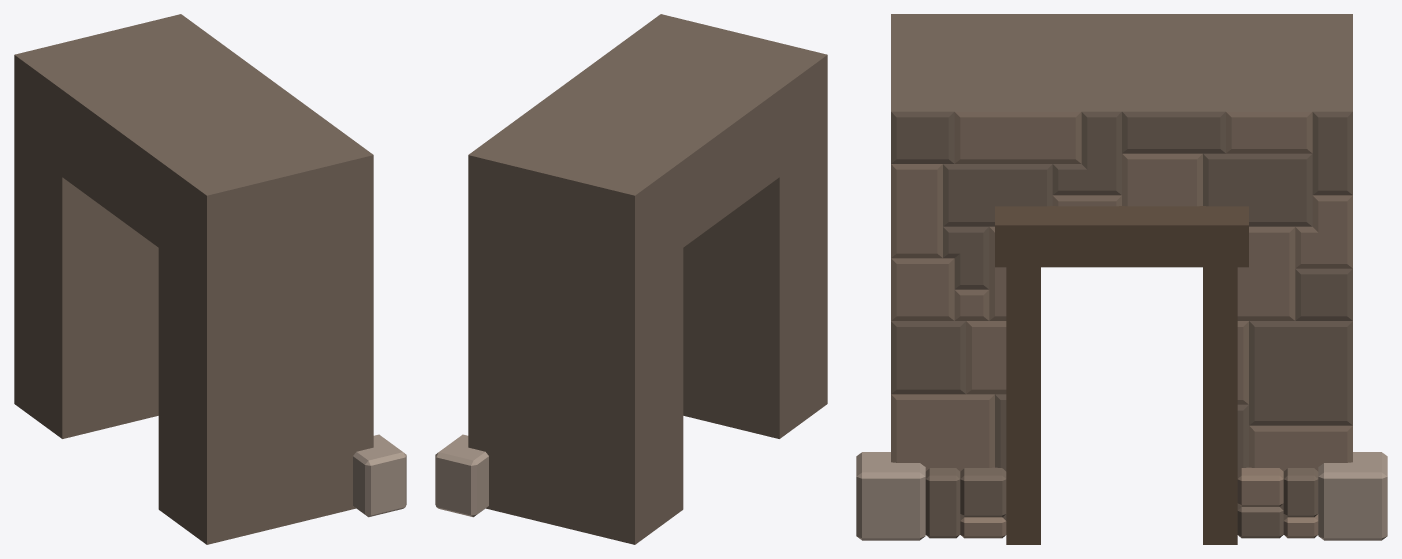
Rendered from Stone_Doorway_Wide_Tall_2.obj.
The picture shows the model from 3 angles, left to right: view 1: azimuth 30°, elevation 25°; view 2: azimuth 150°, elevation 25°; view 3: azimuth 270°, elevation 25°; orthographic projection. The views are drawn at different scales.
Visible parts, largest first — view 1: object4, object5; view 2: object4, object3; view 3: object4, object1, object3, object5, object2, object6.
Boxes of the visible parts, x1,y1,x2,y2 form: object4: (14, 14, 373, 544); object5: (353, 434, 406, 517); object4: (468, 14, 827, 544); object3: (435, 434, 488, 517); object4: (891, 14, 1352, 471); object1: (995, 206, 1248, 544); object3: (1318, 452, 1387, 540); object5: (856, 452, 925, 540); object2: (1237, 467, 1318, 538); object6: (925, 467, 1006, 538).
Size of the model in its own units: 1.2 by 2 by 2.3.
